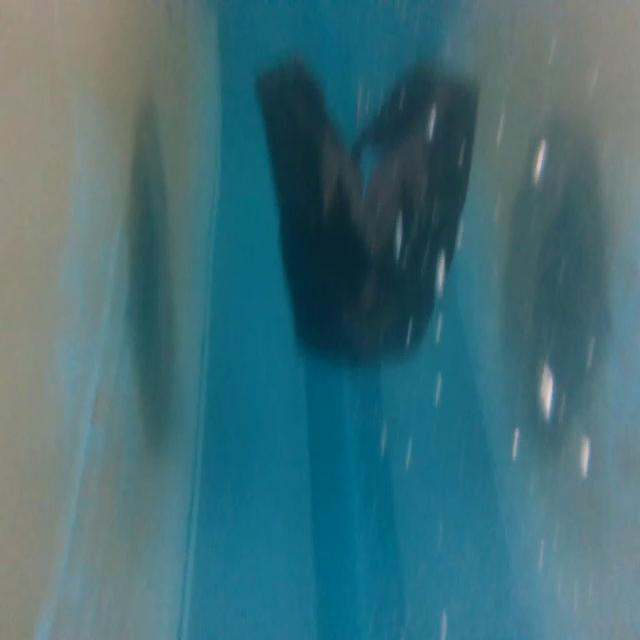plastic bags: (250, 51, 484, 377)
